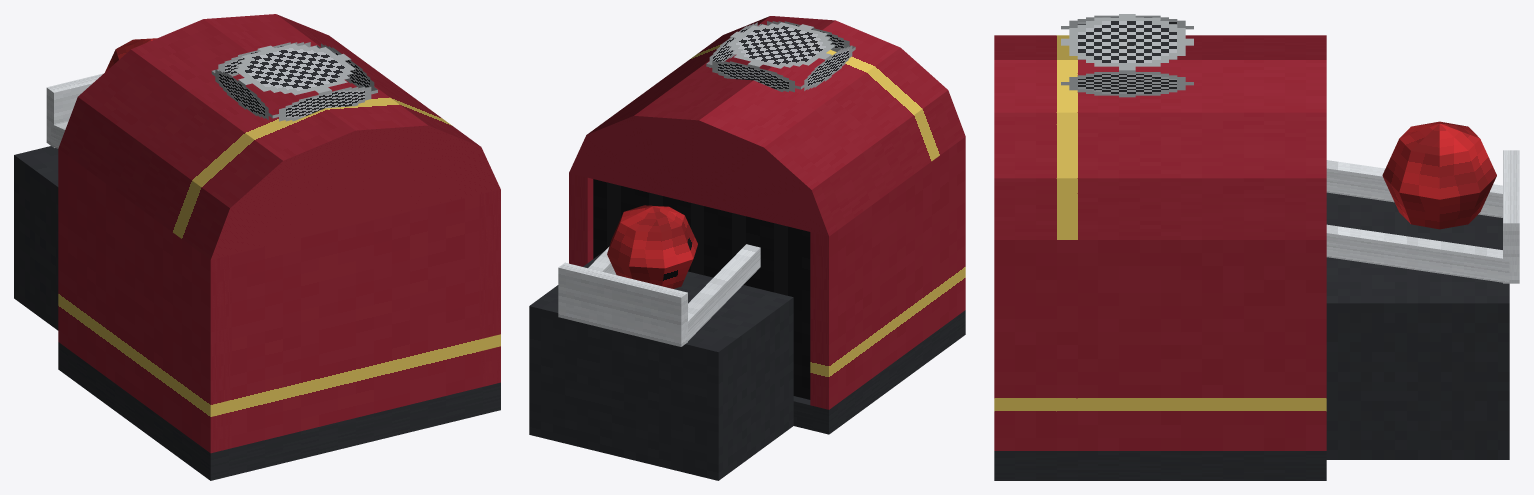
Rendered from ball_return.obj.
3 renders of one model, left to right at view 1: azimuth 30°, elevation 25°; view 2: azimuth 150°, elevation 25°; view 3: azimuth 270°, elevation 25°, orthographic. The views are drawn at different scales.
Visible parts, largest first — view 1: ball_return; view 2: ball_return; view 3: ball_return.
Part boxes in pixels (x1,y1,x2,y2): ball_return: (14, 14, 500, 480); ball_return: (529, 16, 965, 480); ball_return: (994, 14, 1519, 480).
Bounding box in the file's own units: 0.6875 × 0.7506 × 0.9875.
